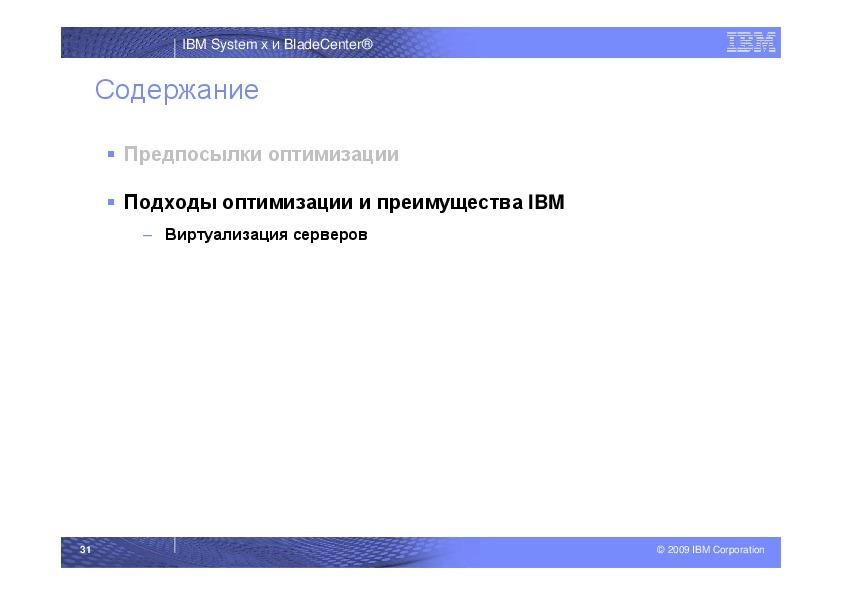paragraph: (79, 123, 624, 277)
subtitle: (85, 69, 287, 108)
title: (177, 27, 389, 57)
